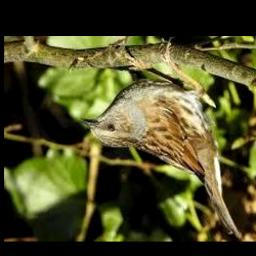Sparrow: (80, 39, 241, 237)
